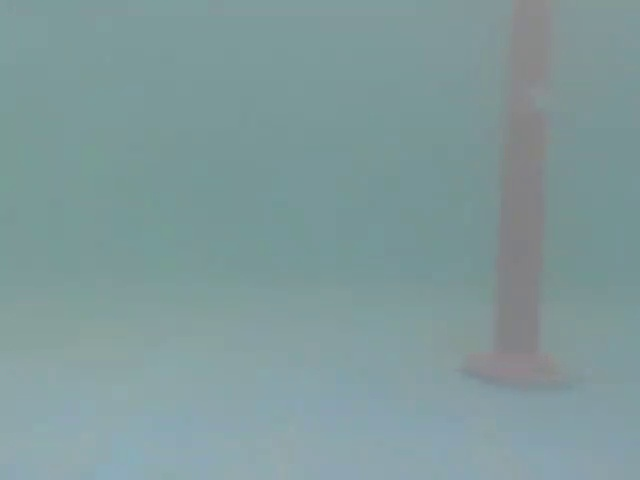flare: (454, 0, 574, 394)
